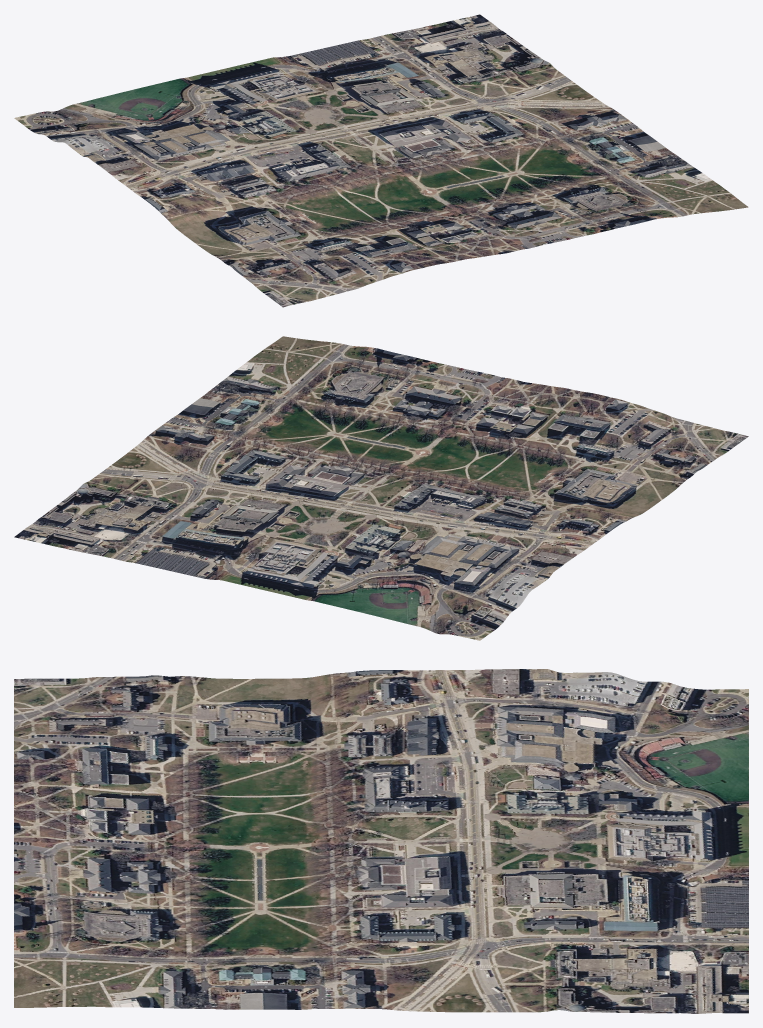
Rendered from terrain.dae.
The picture shows the model from 3 angles, top to bottom: view 1: azimuth 30°, elevation 25°; view 2: azimuth 150°, elevation 25°; view 3: azimuth 270°, elevation 25°; orthographic projection. The views are drawn at different scales.
Visible parts, largest first — view 1: terrain-node; view 2: terrain-node; view 3: terrain-node.
Boxes of the visible parts, x1,y1,x2,y2 form: terrain-node: (14,14,748,307); terrain-node: (14,336,748,640); terrain-node: (14,669,748,1013).
Size of the model in its own units: 600 by 600 by 31.92.
1 material, 1 textured.
